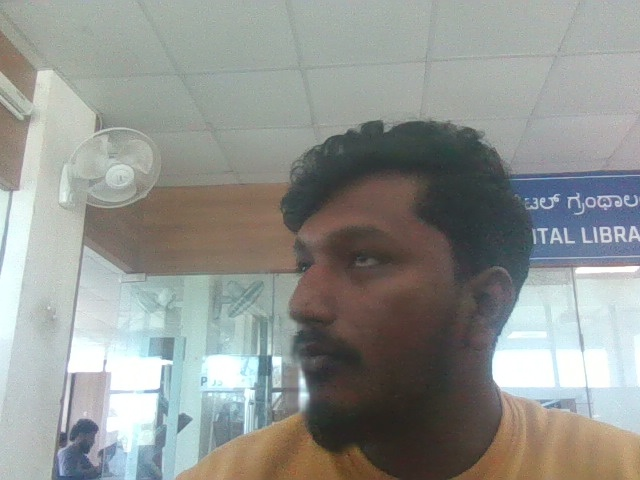real: (263, 101, 500, 437)
